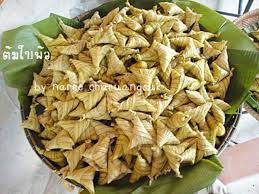kanomtom: (123, 110, 159, 151), (77, 132, 111, 170), (68, 57, 107, 90), (150, 36, 182, 75)
